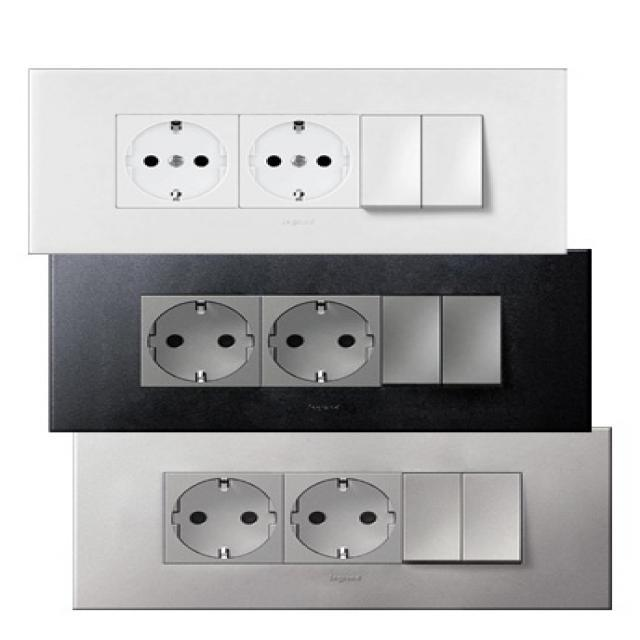typeb: (21, 58, 552, 248), (97, 444, 619, 624), (49, 256, 593, 421)
